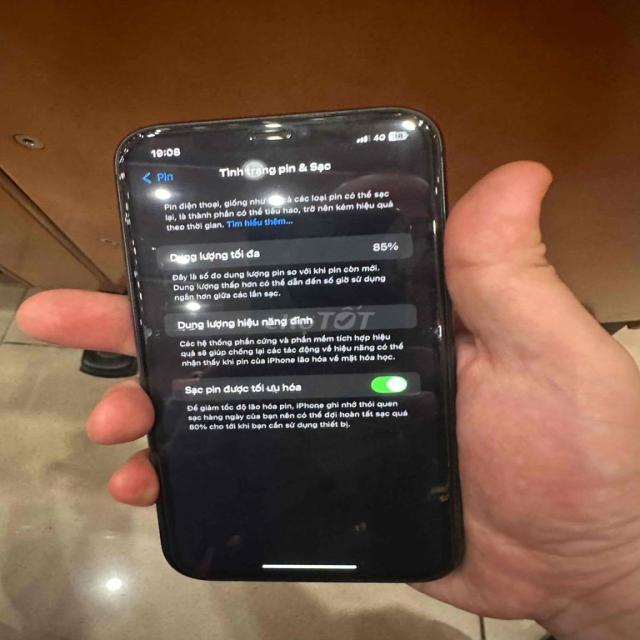gen_11: (108, 105, 475, 589)
scratch: (113, 121, 161, 351), (431, 167, 448, 345), (380, 104, 448, 141)
